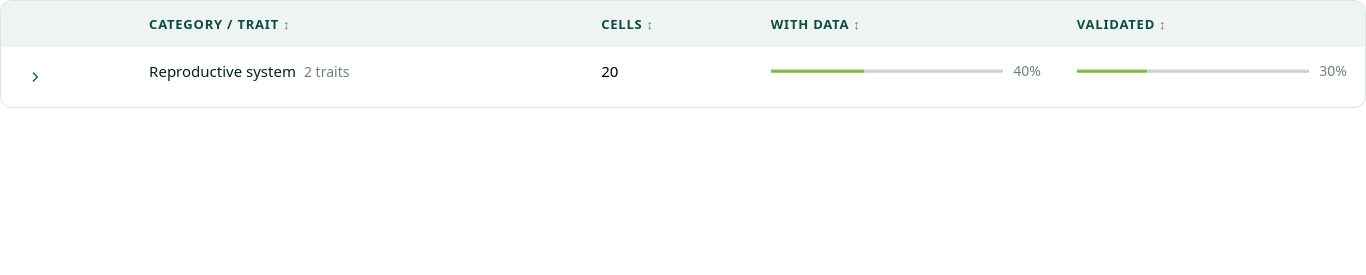
Test case: RFC-69 R5 CoverageTable › the chevron expands a category to its trait rows, each with two meters and both links
Expected: the text "sexual system" is not shown
Click the button named "expand reproductive system": (35, 77) [19,61,51,93]
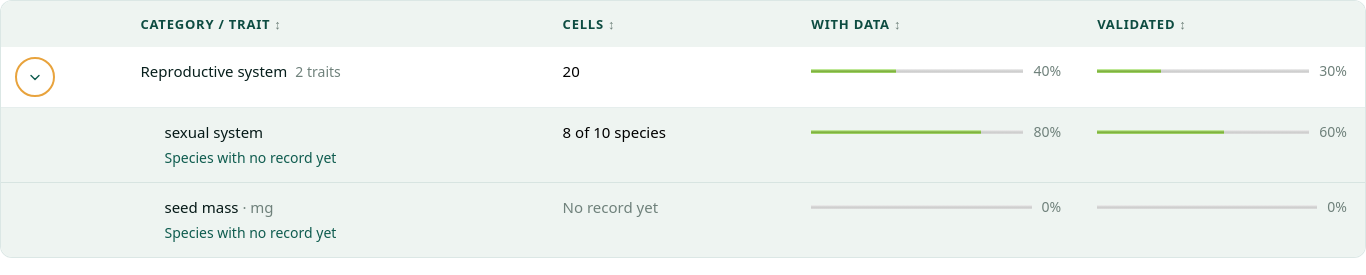
Expected: the button named "expand reproductive system" is expanded, [19,61,51,93]
